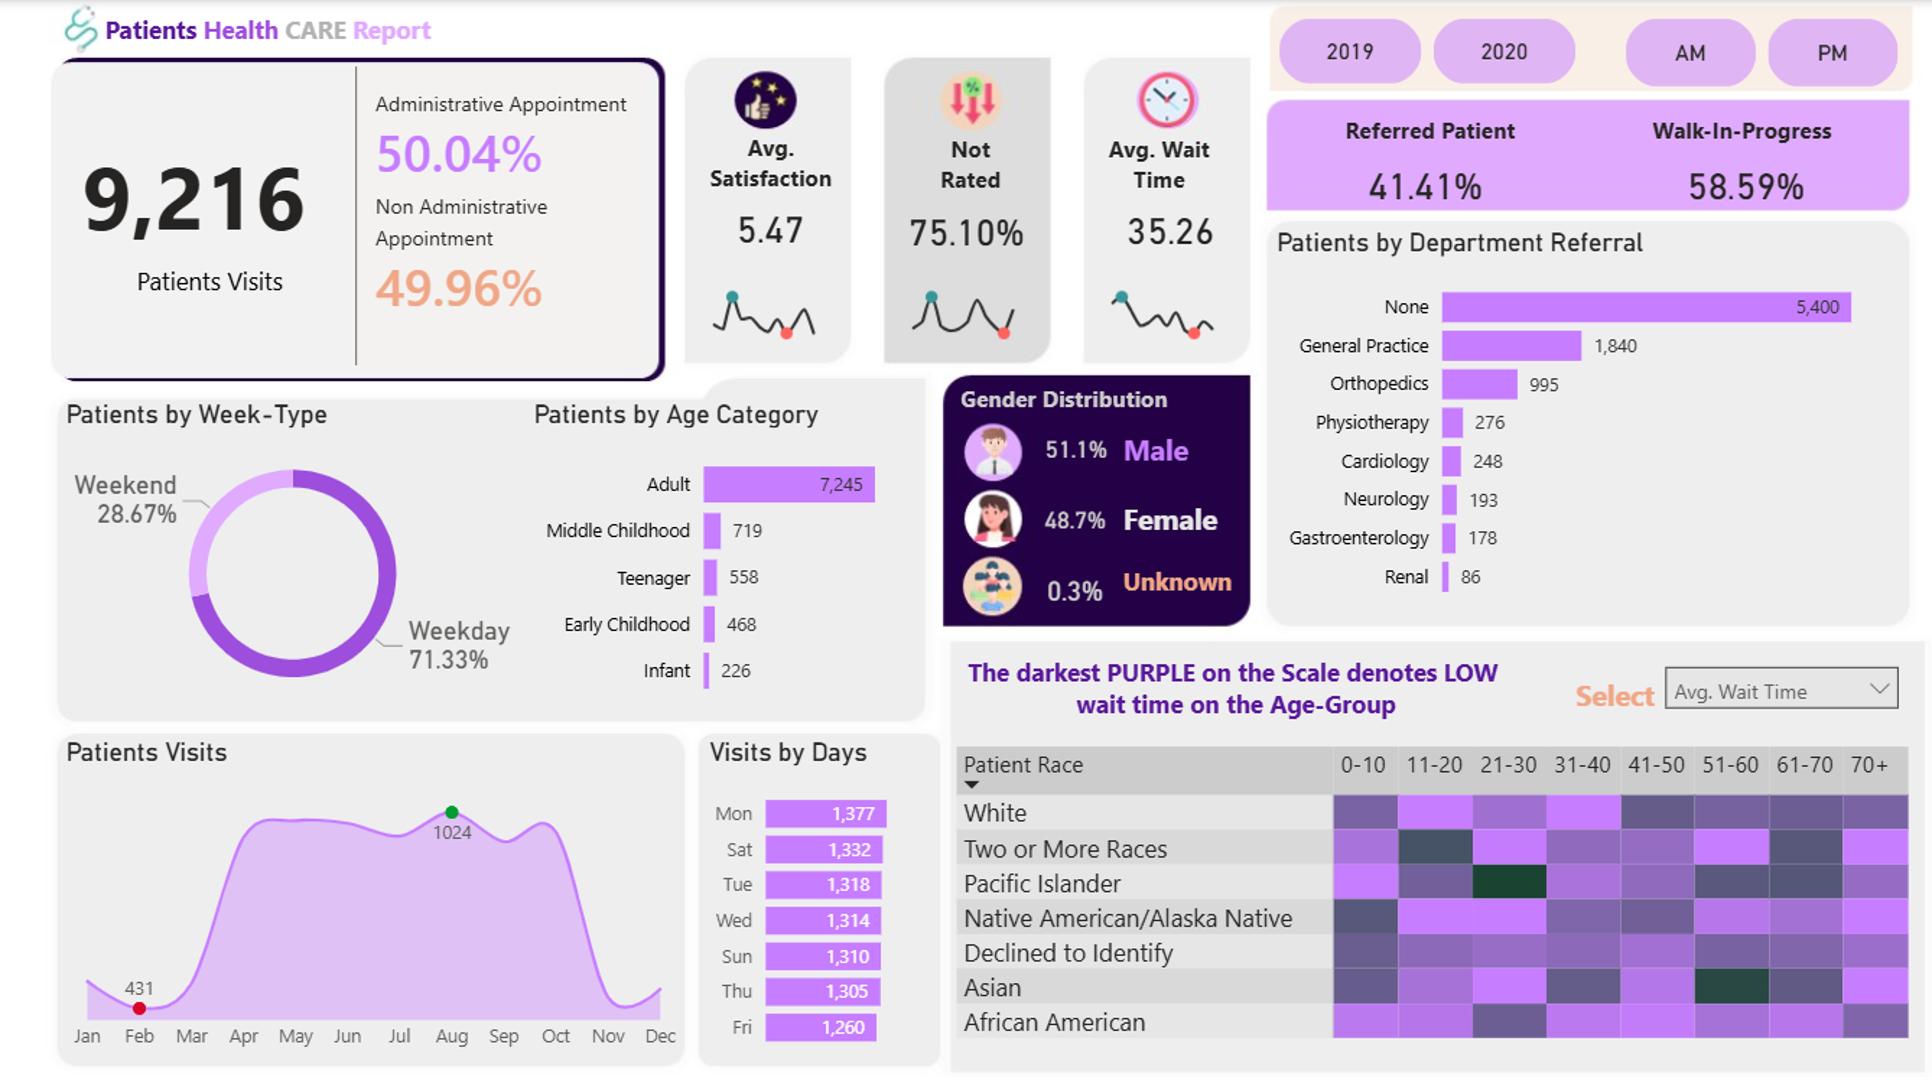

What the dashboard file says about the page in this screenshot:
{"tool":"powerbi","page":{"name":"Page 1","canvas":[1280,720],"ordinal":0},"visuals":[{"type":"cardVisual","fields":{"Data":["_Measures.Total Patients"]},"box":[37.4,39,396.9,208.2],"z":0},{"type":"pivotTable","fields":{"Values":["_Measures.Avg. Wait Time"],"Rows":["Patient Dataset.patient_race"],"Columns":["Patient Dataset.Age Brackets"]},"box":[626.9,488.3,641.1,215.8],"z":1000},{"type":"slicer","fields":{"Values":["Parameter.Parameter"]},"box":[1091.4,431,174,43.9],"z":2000},{"type":"clusteredBarChart","title":"Patients by Age Category","fields":{"Y":["_Measures.Total Patients"],"Category":["Patient Dataset.Age Group"]},"box":[348.1,263.5,266.8,209.8],"z":3000},{"type":"lineChart","title":"Patients Visits","fields":{"Category":["Date_Table.Month"],"Y":["_Measures.Total Patients","_Measures.Value Max Point (Line Chart)"]},"box":[39,486.3,416.4,216.3],"z":4000},{"type":"advancedSlicerVisual","fields":{"Values":["Patient Dataset.Moment"]},"box":[1070.3,6.5,191.9,55.3],"z":5000},{"type":"clusteredBarChart","title":"Patients by Department Referral","fields":{"Category":["Patient Dataset.department_referral"],"Y":["_Measures.Total Patients"]},"box":[839.4,150.4,425.4,256.4],"z":6000},{"type":"card","fields":{"Values":["_Measures.HitMap Caption"]},"box":[626.9,420.5,379.6,66.2],"z":7000},{"type":"donutChart","title":"Patients by Week-Type","fields":{"Category":["Date_Table.WeekType"],"Y":["_Measures.Total Patients"]},"box":[39,263.5,309,211.5],"z":8000},{"type":"card","fields":{"Values":["_Measures.% of Male"]},"box":[684.7,279.3,53,37.2],"z":9000},{"type":"card","fields":{"Values":["_Measures.% of Female"]},"box":[684.8,326.9,52,35.8],"z":10000},{"type":"card","fields":{"Values":["_Measures.% of NC"]},"box":[684.8,377.4,52,29.3],"z":11000},{"type":"card","fields":{"Values":["_Measures.Avg. Satisfaction Score"]},"box":[476.6,130.1,63.4,40.7],"z":12000},{"type":"card","fields":{"Values":["_Measures.% No Rating"]},"box":[593.7,135,91.1,35.8],"z":13000},{"type":"card","fields":{"Values":["_Measures.Avg. Wait Time"]},"box":[736.8,133.4,74.8,37.4],"z":14000},{"type":"textbox","box":[456.6,81.5,106,51.4],"z":15000},{"type":"textbox","box":[610,83,63.4,52],"z":16000},{"type":"textbox","box":[721.7,83.2,89.4,51.4],"z":17000},{"type":"card","fields":{"Values":["_Measures.% of Referred Patients"]},"box":[878.3,105.7,128.5,32.5],"z":18000},{"type":"card","fields":{"Values":["_Measures.% of UnReferred Patients"]},"box":[1091.4,105.7,125.2,32.5],"z":19000},{"type":"advancedSlicerVisual","fields":{"Values":["Date_Table.Year"]},"box":[840.9,6.5,206.6,53.7],"z":20000},{"type":"clusteredBarChart","title":"Visits by Days","fields":{"Category":["Date_Table.Weekday"],"Y":["_Measures.Total Patients"]},"box":[463.6,486.3,156.1,216.3],"z":21000},{"type":"textbox","box":[850.7,69.9,190.3,35.8],"z":22000},{"type":"textbox","box":[1052.4,69.9,198.4,35.8],"z":23000},{"type":"PBI_CV_25997FEB_F466_44FA_B562_AC4063283C4C","fields":{"measure":["_Measures.Avg. Satisfaction Score"],"axis":["Date_Table.Month"]},"box":[453.8,178.9,105.7,52],"z":24000},{"type":"PBI_CV_25997FEB_F466_44FA_B562_AC4063283C4C","fields":{"measure":["_Measures.% No Rating"],"axis":["Date_Table.Month"]},"box":[585.6,178.9,105.7,52],"z":25000},{"type":"PBI_CV_25997FEB_F466_44FA_B562_AC4063283C4C","fields":{"measure":["_Measures.Avg. Wait Time"],"axis":["Date_Table.Month"]},"box":[717.3,178.9,105.7,52],"z":26000},{"type":"textbox","box":[630,247.3,163.8,33.1],"z":27000},{"type":"textbox","box":[737.1,278.8,85.1,41],"z":28000},{"type":"textbox","box":[737.1,324.5,85.1,41],"z":29000},{"type":"textbox","box":[737.7,368.1,101.7,41.5],"z":30000},{"type":"textbox","box":[65.1,3.3,296,32.5],"z":31000},{"type":"textbox","box":[1028.5,441,70.9,37.8],"z":32000}]}

Visuals, with their boxes in screenshot pixels (x1, y1, x2, y2), scaled from the page's 1280x720 canvas onto the 1932x1080 screenshot:
cardVisual - _Measures.Total Patients: [56,58,656,371]
pivotTable - _Measures.Avg. Wait Time x Patient Dataset.patient_race: [946,732,1914,1056]
slicer - Parameter.Parameter: [1647,646,1910,712]
"Patients by Age Category" clusteredBarChart: [525,395,928,710]
"Patients Visits" lineChart: [59,729,687,1054]
advancedSlicerVisual - Patient Dataset.Moment: [1615,10,1905,93]
"Patients by Department Referral" clusteredBarChart: [1267,226,1909,610]
card - _Measures.HitMap Caption: [946,631,1519,730]
"Patients by Week-Type" donutChart: [59,395,525,712]
card - _Measures.% of Male: [1033,419,1113,475]
card - _Measures.% of Female: [1034,490,1112,544]
card - _Measures.% of NC: [1034,566,1112,610]
card - _Measures.Avg. Satisfaction Score: [719,195,815,256]
card - _Measures.% No Rating: [896,202,1034,256]
card - _Measures.Avg. Wait Time: [1112,200,1225,256]
textbox: [689,122,849,199]
textbox: [921,124,1016,202]
textbox: [1089,125,1224,202]
card - _Measures.% of Referred Patients: [1326,159,1520,207]
card - _Measures.% of UnReferred Patients: [1647,159,1836,207]
advancedSlicerVisual - Date_Table.Year: [1269,10,1581,90]
"Visits by Days" clusteredBarChart: [700,729,935,1054]
textbox: [1284,105,1571,159]
textbox: [1588,105,1888,159]
PBI_CV_25997FEB_F466_44FA_B562_AC4063283C4C - _Measures.Avg. Satisfaction Score x Date_Table.Month: [685,268,844,346]
PBI_CV_25997FEB_F466_44FA_B562_AC4063283C4C - _Measures.% No Rating x Date_Table.Month: [884,268,1043,346]
PBI_CV_25997FEB_F466_44FA_B562_AC4063283C4C - _Measures.Avg. Wait Time x Date_Table.Month: [1083,268,1242,346]
textbox: [951,371,1198,421]
textbox: [1113,418,1241,480]
textbox: [1113,487,1241,548]
textbox: [1113,552,1267,614]
textbox: [98,5,545,54]
textbox: [1552,662,1659,718]
